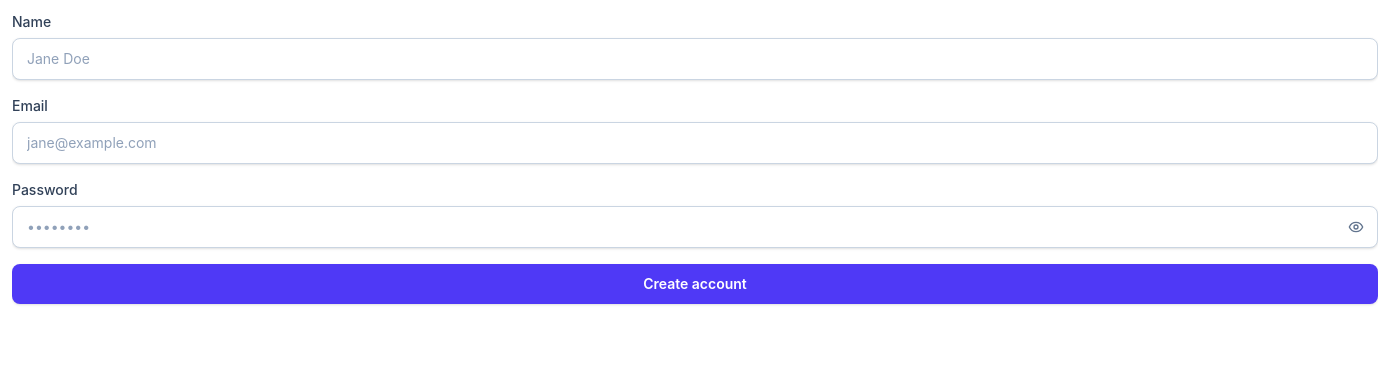
SignupForm › shows inline name and email validation errors when an empty form is submitted
Click the button "Create account" at x=695, y=284, box x1=12 y1=264 x2=1378 y2=304
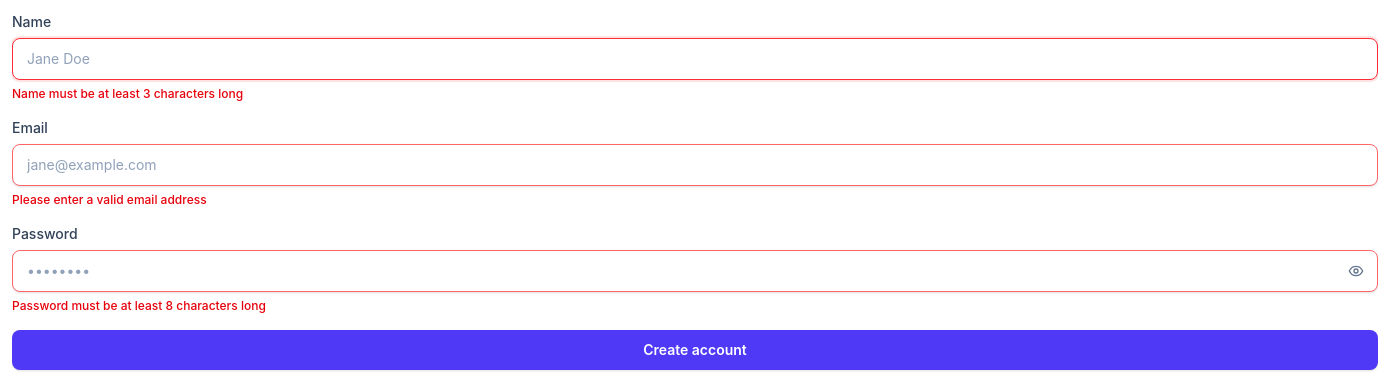
Check: the text "Name must be at least 3 characters long" is shown, box x1=12 y1=86 x2=243 y2=101
Check: the text "Please enter a valid email address" is shown, box x1=12 y1=192 x2=207 y2=207
